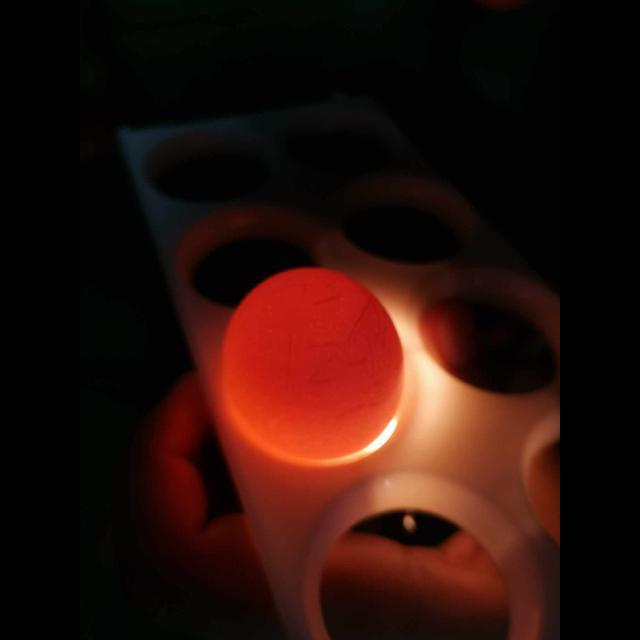Infertile: (226, 264, 410, 458)
